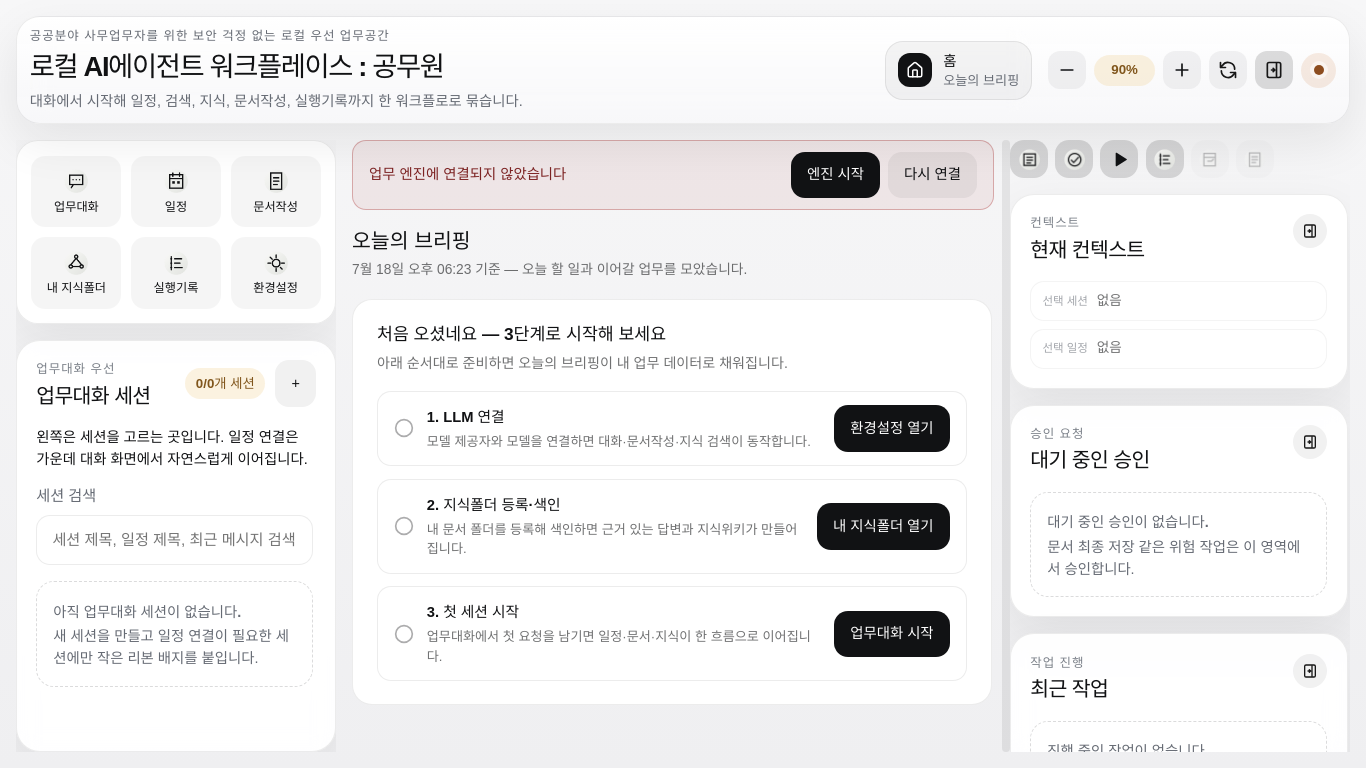
Test case: chat composer idle hint (W6) › hides the hint as soon as the user starts typing and shows it again when cleared
Click the button "업무대화".
click(76, 192)  # box [31,156,121,227]
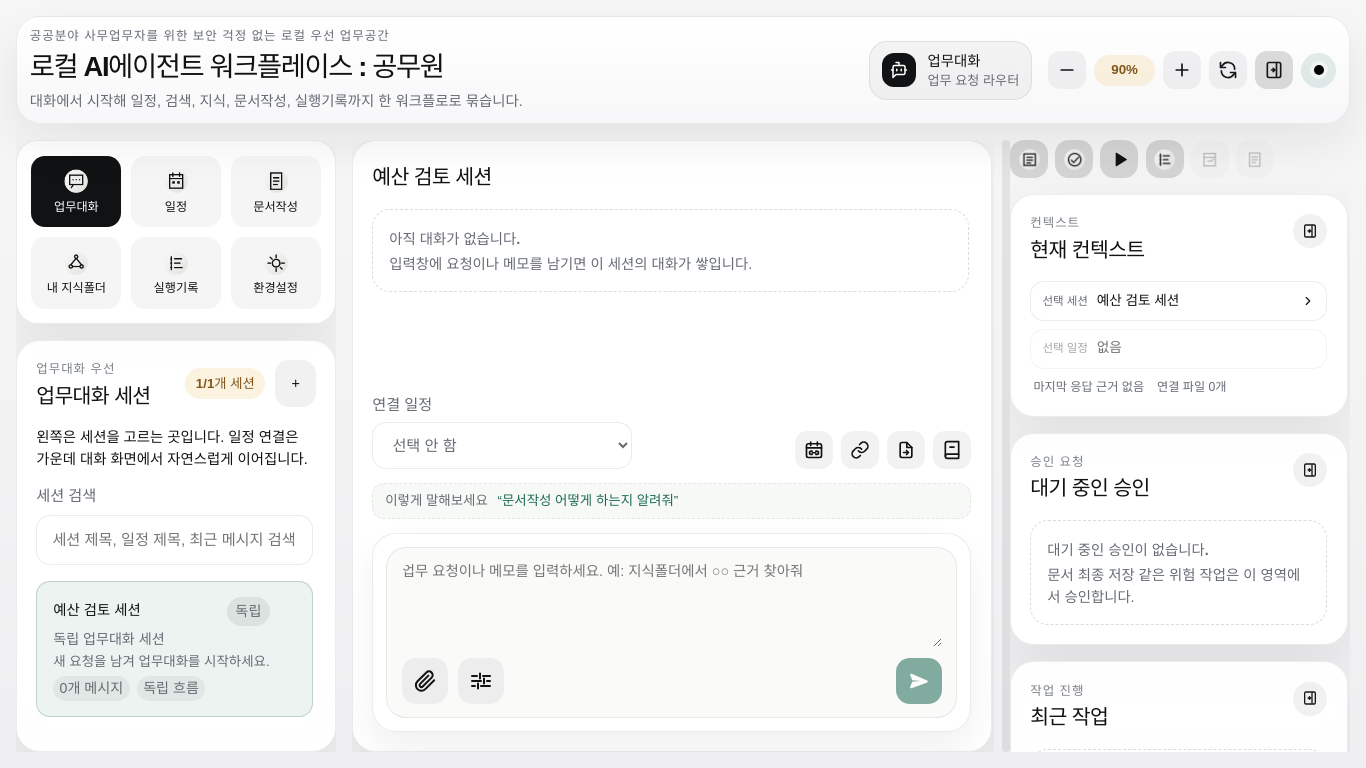
Expected: the element with test id "chat-workspace" is shown, [372,209,971,732]
Expected: the element with test id "chat-composer-hint" is shown, [372,482,971,519]
Type "ㅇ" into the text box with test id "chat-composer-input".
click(672, 604); type("ㅇ")  # box [402,561,942,647]
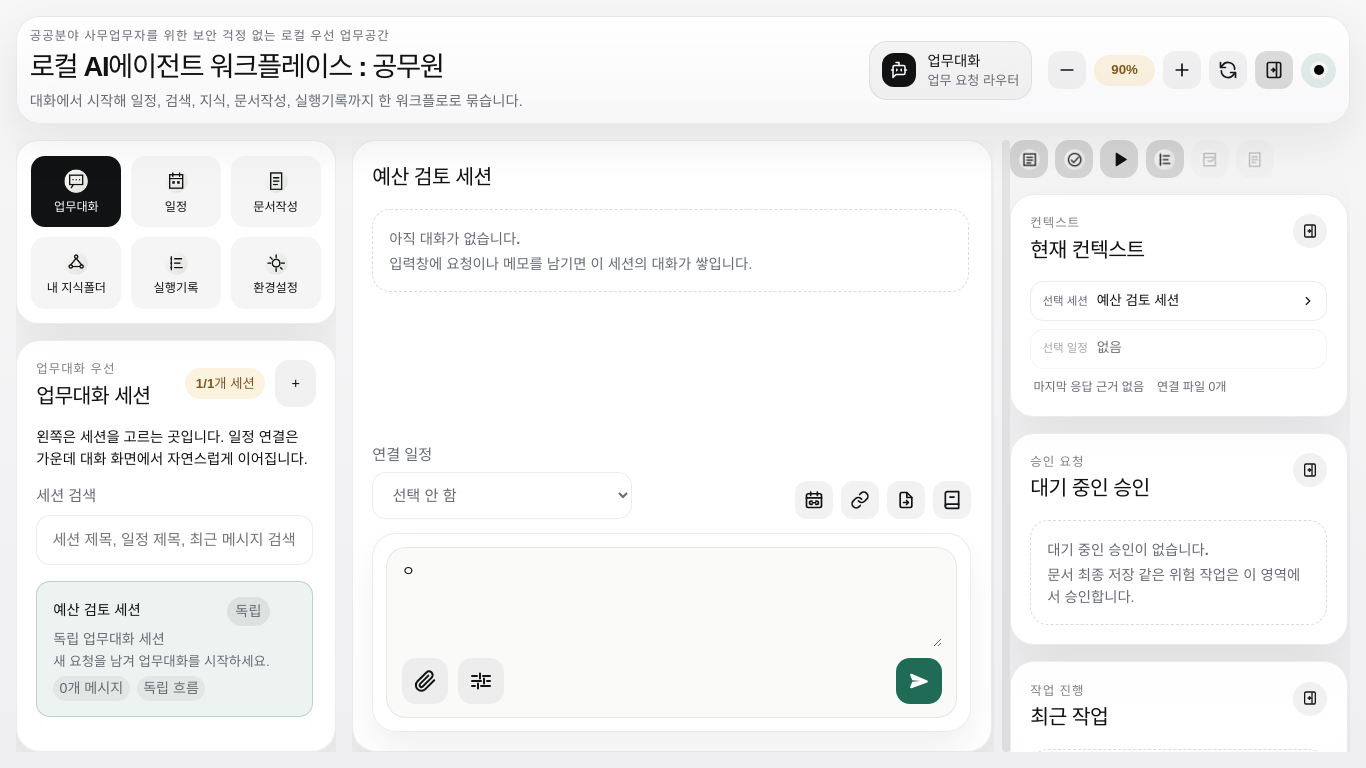
Expected: the element with test id "chat-composer-hint" is gone
Clear the text box with test id "chat-composer-input" at point(672, 604), box [402,561,942,647]
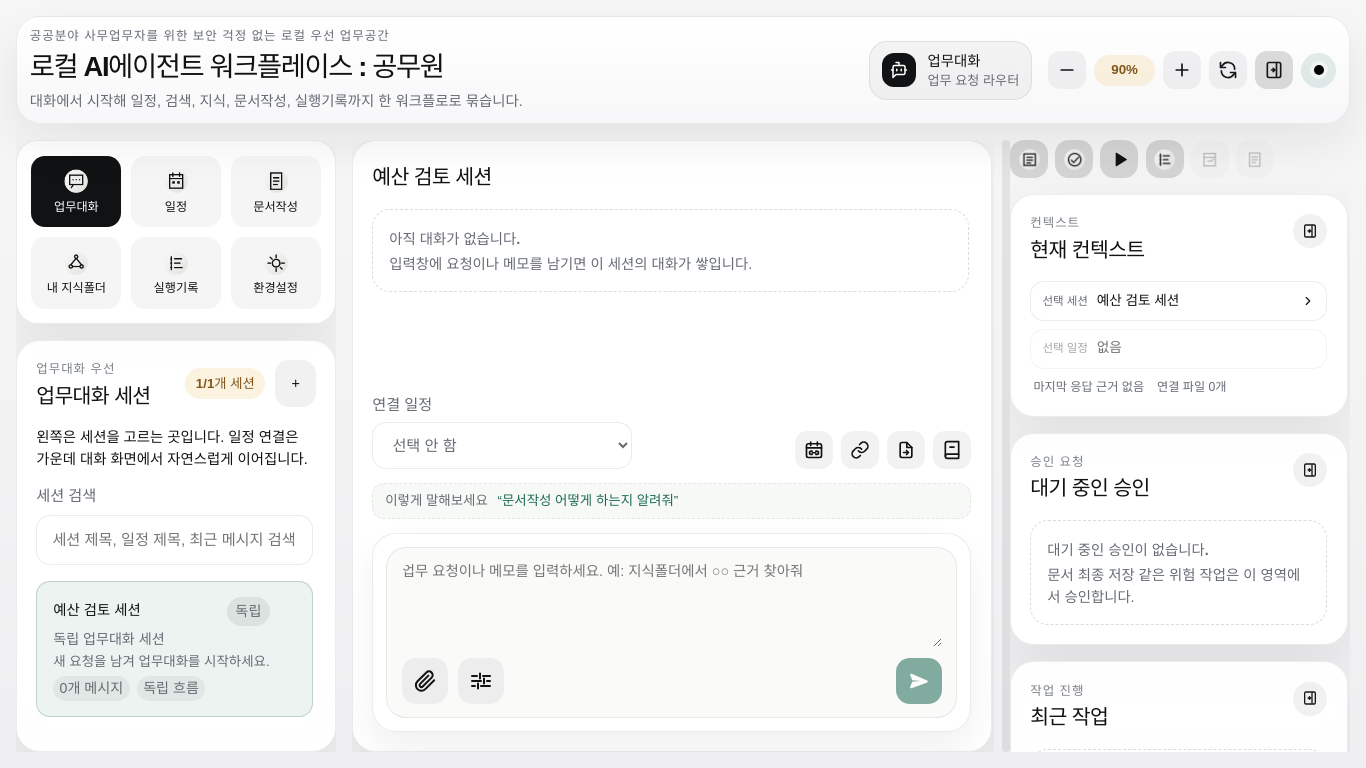
Expected: the element with test id "chat-composer-hint" is shown, [372,482,971,519]
